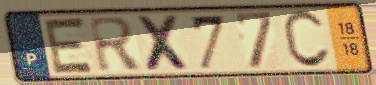7: (233, 10, 277, 72), (187, 14, 230, 71)
C: (280, 8, 334, 71)
E: (42, 15, 97, 76)
R: (86, 14, 147, 74)
X: (133, 13, 196, 73)
